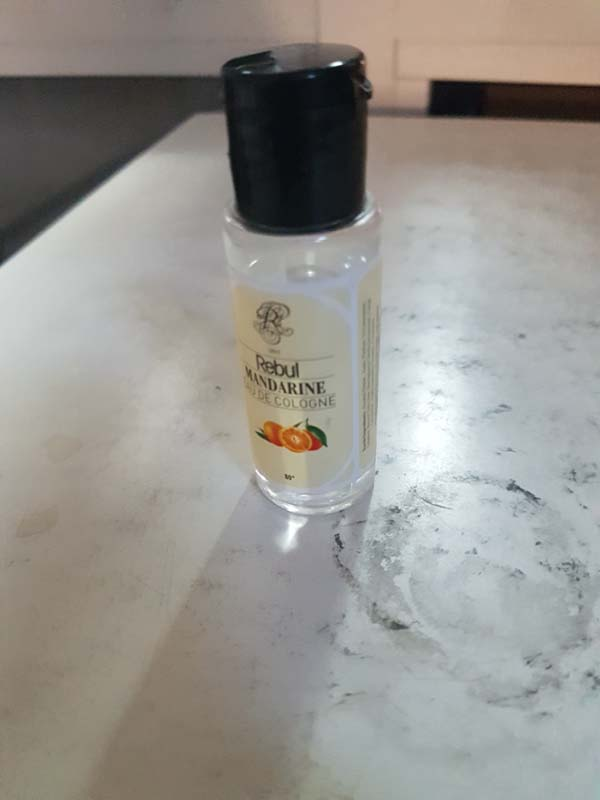redbulkolonya: (214, 37, 386, 521)
